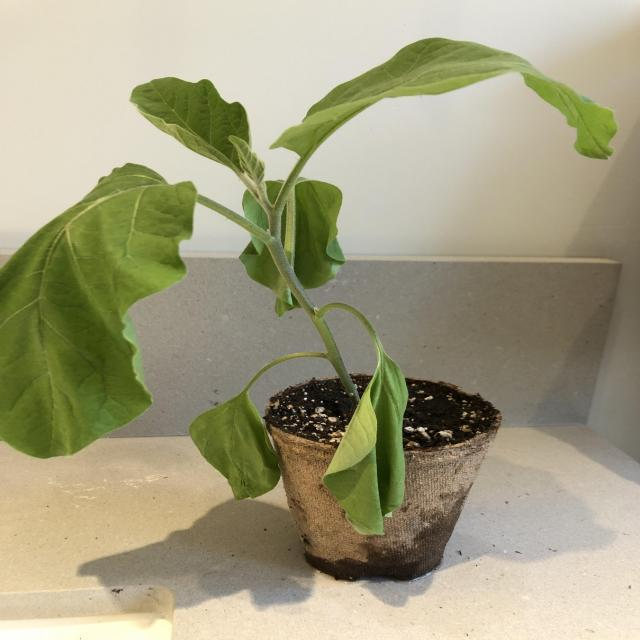brinjal: (1, 37, 617, 535)
